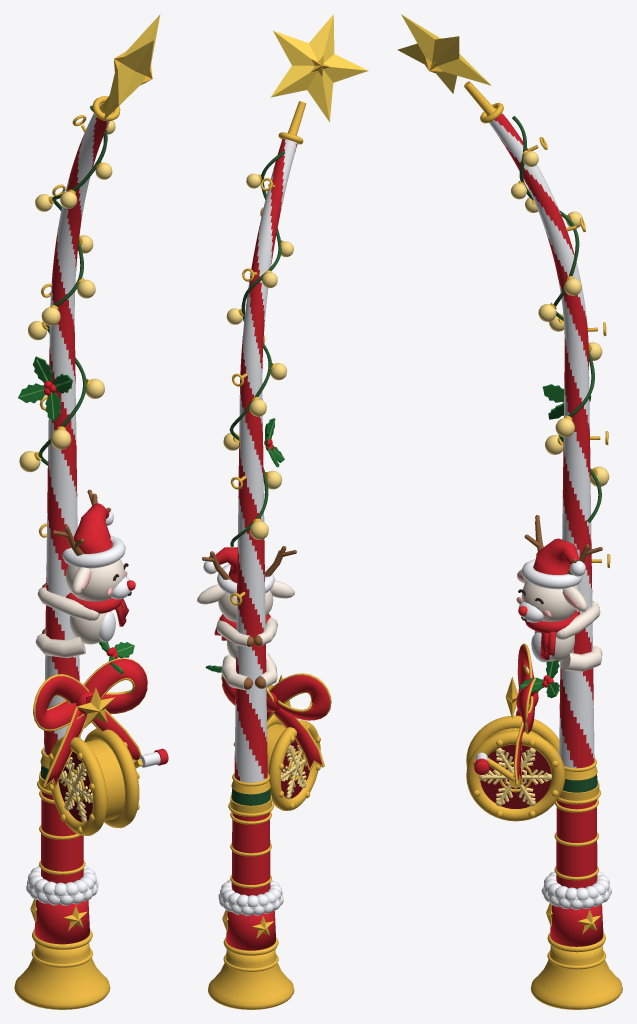
The model's file is XmasRod3.glb.
3 views of the same model, side by side, from view 1: azimuth 30°, elevation 25°; view 2: azimuth 150°, elevation 25°; view 3: azimuth 270°, elevation 25° (orthographic). The views are drawn at different scales.
Parts seen in each view (by area): view 1: XmasRod3__Red, XmasRod3__Gold, XmasRod3__Snow, XmasRod3__Fur, XmasRod3__BulbWarm, XmasRod3__Star, XmasRod3__Holly, XmasRod3__Wire, XmasRod3__Flake, XmasRod3__Scarf, XmasRod3__ReelFace, XmasRod3__Antler; view 2: XmasRod3__Red, XmasRod3__Gold, XmasRod3__Snow, XmasRod3__Star, XmasRod3__Fur, XmasRod3__BulbWarm, XmasRod3__Wire, XmasRod3__Antler, XmasRod3__Flake, XmasRod3__Green, XmasRod3__Holly, XmasRod3__ReelFace; view 3: XmasRod3__Red, XmasRod3__Gold, XmasRod3__Snow, XmasRod3__Fur, XmasRod3__Star, XmasRod3__BulbWarm, XmasRod3__ReelFace, XmasRod3__Flake, XmasRod3__Wire, XmasRod3__Holly, XmasRod3__Scarf.
Part boxes in pixels (left/top/right/bottom): XmasRod3__Red: left=34, top=117, right=168, bottom=944; XmasRod3__Gold: left=14, top=51, right=152, bottom=1009; XmasRod3__Snow: left=26, top=103, right=160, bottom=905; XmasRod3__Fur: left=35, top=559, right=125, bottom=658; XmasRod3__BulbWarm: left=19, top=120, right=115, bottom=472; XmasRod3__Star: left=104, top=14, right=160, bottom=119; XmasRod3__Holly: left=18, top=356, right=134, bottom=674; XmasRod3__Wire: left=38, top=105, right=107, bottom=465; XmasRod3__Flake: left=59, top=757, right=92, bottom=822; XmasRod3__Scarf: left=66, top=592, right=128, bottom=626; XmasRod3__ReelFace: left=58, top=751, right=92, bottom=822; XmasRod3__Antler: left=37, top=489, right=110, bottom=636; XmasRod3__Red: left=215, top=139, right=329, bottom=950; XmasRod3__Gold: left=208, top=56, right=331, bottom=1009; XmasRod3__Snow: left=203, top=138, right=297, bottom=915; XmasRod3__Star: left=270, top=14, right=368, bottom=121; XmasRod3__Fur: left=197, top=580, right=294, bottom=690; XmasRod3__BulbWarm: left=223, top=173, right=293, bottom=539; XmasRod3__Wire: left=229, top=150, right=284, bottom=546; XmasRod3__Antler: left=202, top=546, right=296, bottom=689; XmasRod3__Flake: left=281, top=745, right=307, bottom=799; XmasRod3__Green: left=231, top=788, right=270, bottom=805; XmasRod3__Holly: left=205, top=418, right=284, bottom=672; XmasRod3__ReelFace: left=281, top=739, right=309, bottom=798; XmasRod3__Red: left=474, top=113, right=603, bottom=946; XmasRod3__Gold: left=424, top=38, right=622, bottom=1009; XmasRod3__Snow: left=475, top=112, right=611, bottom=909; XmasRod3__Fur: left=517, top=569, right=602, bottom=671; XmasRod3__Star: left=397, top=14, right=491, bottom=93; XmasRod3__BulbWarm: left=511, top=151, right=609, bottom=486; XmasRod3__ReelFace: left=480, top=744, right=551, bottom=808; XmasRod3__Flake: left=479, top=748, right=551, bottom=806; XmasRod3__Wire: left=512, top=116, right=601, bottom=522; XmasRod3__Holly: left=519, top=384, right=591, bottom=698; XmasRod3__Scarf: left=525, top=611, right=578, bottom=659.
Bounding box in the file's own units: 0.7884 × 6.36 × 1.33.
